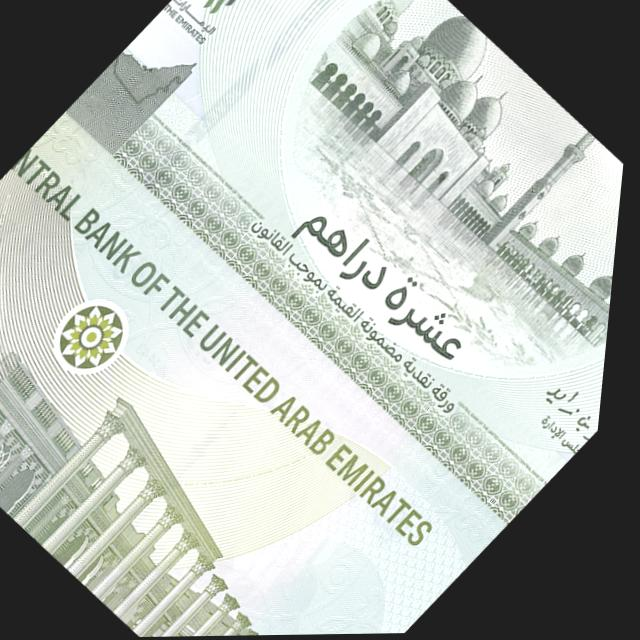10_AED: (31, 0, 640, 525), (0, 108, 544, 640)
